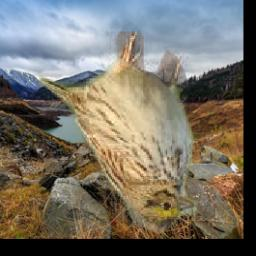Sparrow: (40, 32, 201, 235)
